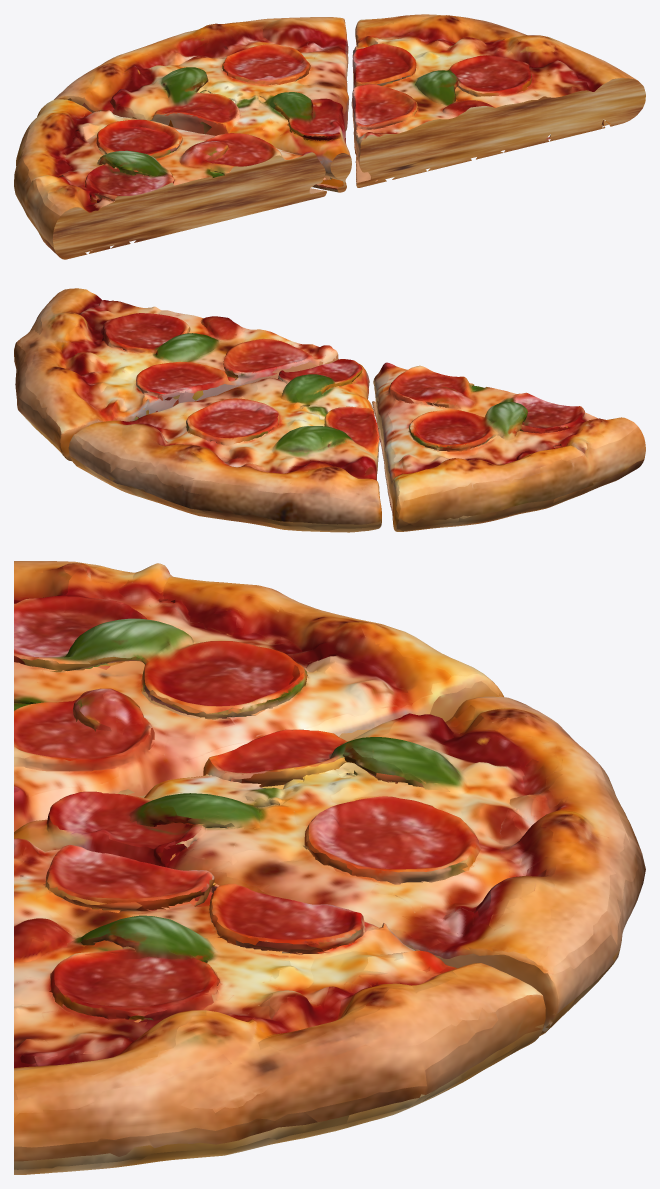
File: stage3-derived.glb
3 renders of one model, top to bottom at view 1: azimuth 30°, elevation 25°; view 2: azimuth 150°, elevation 25°; view 3: azimuth 270°, elevation 25°, orthographic. The views are drawn at different scales.
Parts seen in each view (by area): view 1: geometry_0; view 2: geometry_0; view 3: geometry_0.
Part boxes in pixels (x1,y1,x2,y2): geometry_0: (14,14,645,259); geometry_0: (14,288,645,532); geometry_0: (14,561,645,1174).
Bounding box in the file's own units: 0.2981 × 0.0296 × 0.1445.
2 materials, 2 textured.
